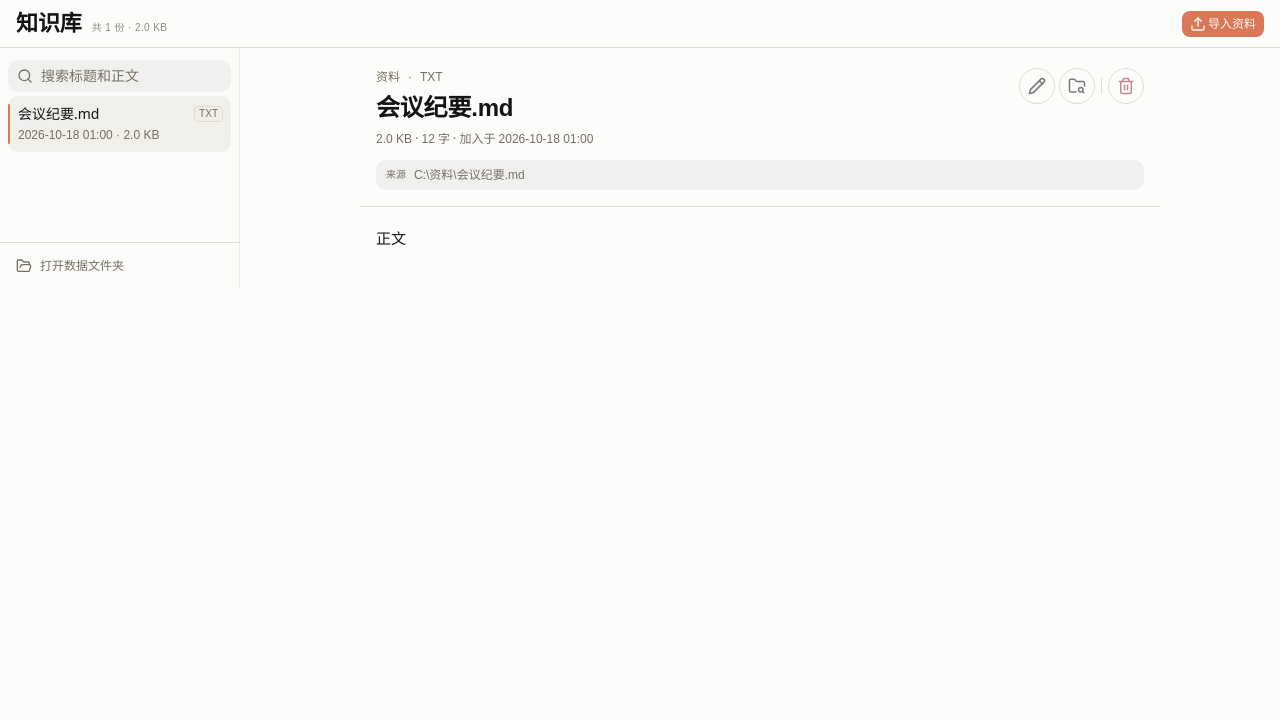
it: 知识库：重命名 / 删除 / 错误 › 删除：先确认弹窗，确认后调 remove、列表移除并回到空态
Expected: the heading "会议纪要.md" is shown, [376,94,513,121]
Click the button with test id "knowledge-delete": (1126, 86) [1108,68,1144,104]
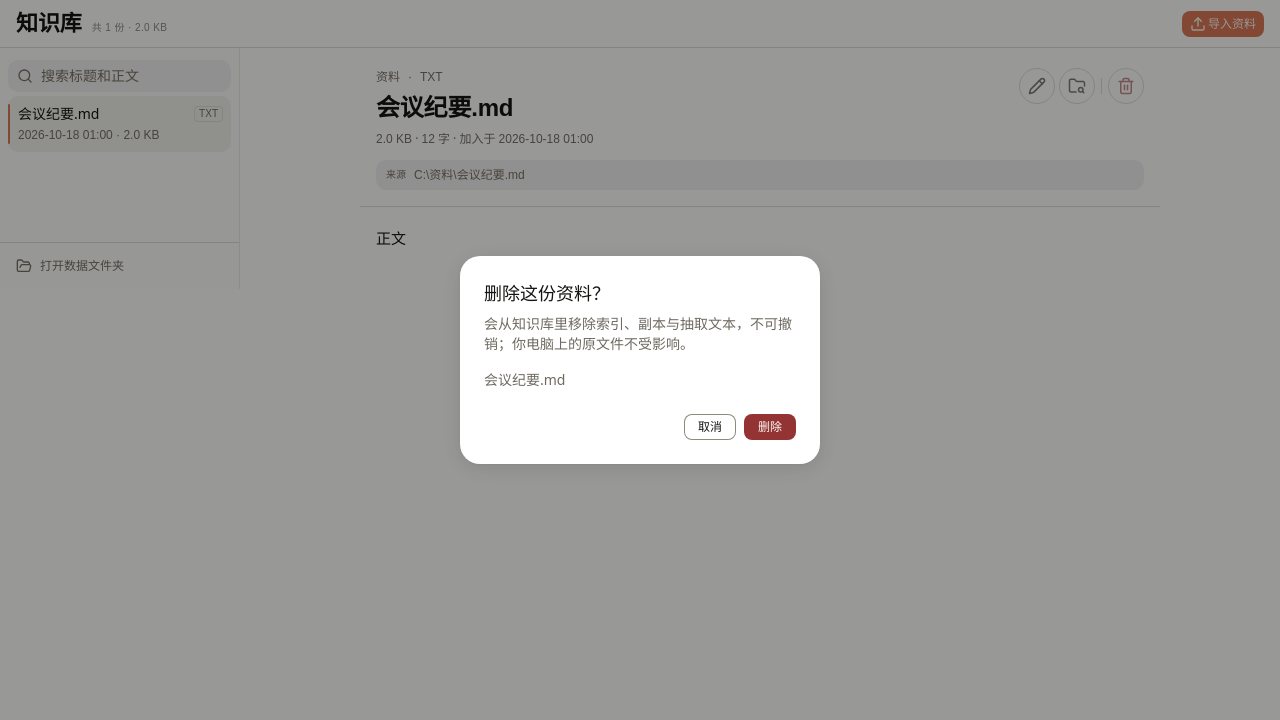
Expected: the dialog shows "删除这份资料？", [484,281,610,305]
Expected: the dialog shows "原文件不受影响", [484,314,792,353]
Click the button with test id "knowledge-delete-confirm": (770, 427) [744,414,796,440]
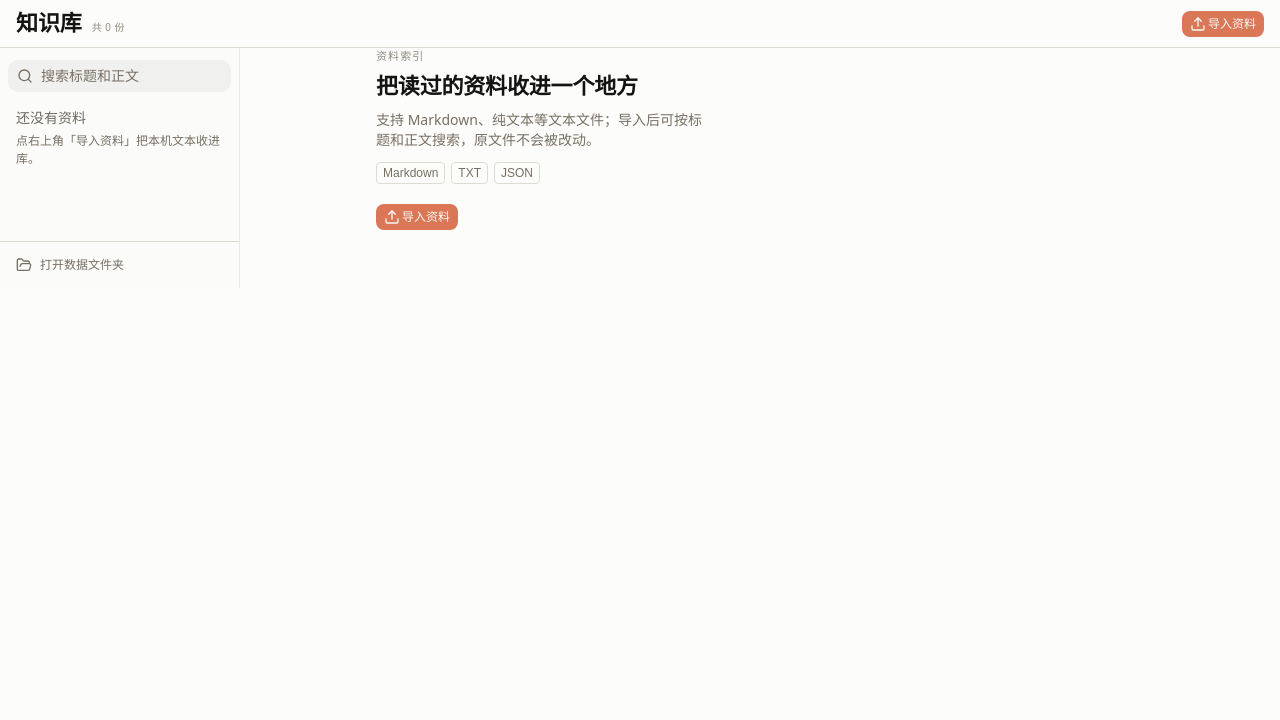
Expected: the element with test id "knowledge-empty" is shown, [376,50,702,230]
